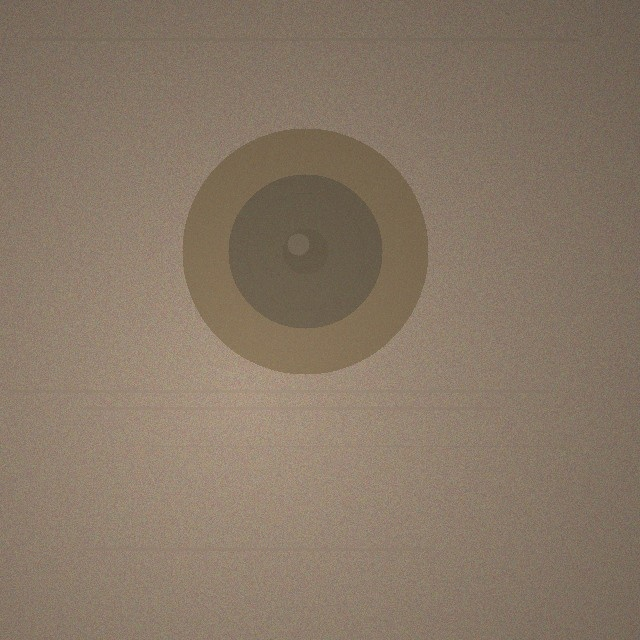good: (182, 128, 428, 374)
